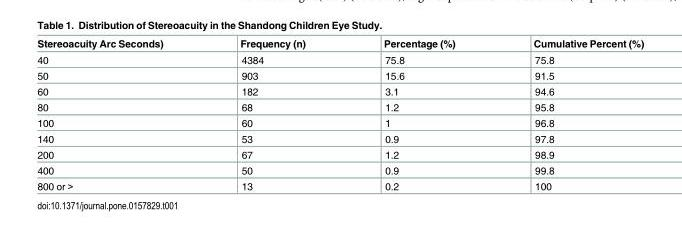table: (36, 36, 643, 191)
table column: (36, 36, 201, 191), (343, 36, 493, 191), (493, 36, 643, 191), (201, 36, 343, 191)
table column header: (36, 36, 643, 51)
table row: (36, 51, 643, 67), (36, 67, 643, 83), (36, 98, 643, 114), (36, 114, 643, 130), (36, 130, 643, 146), (36, 161, 643, 177), (36, 36, 643, 51), (36, 83, 643, 98), (36, 146, 643, 161), (36, 177, 643, 191)
